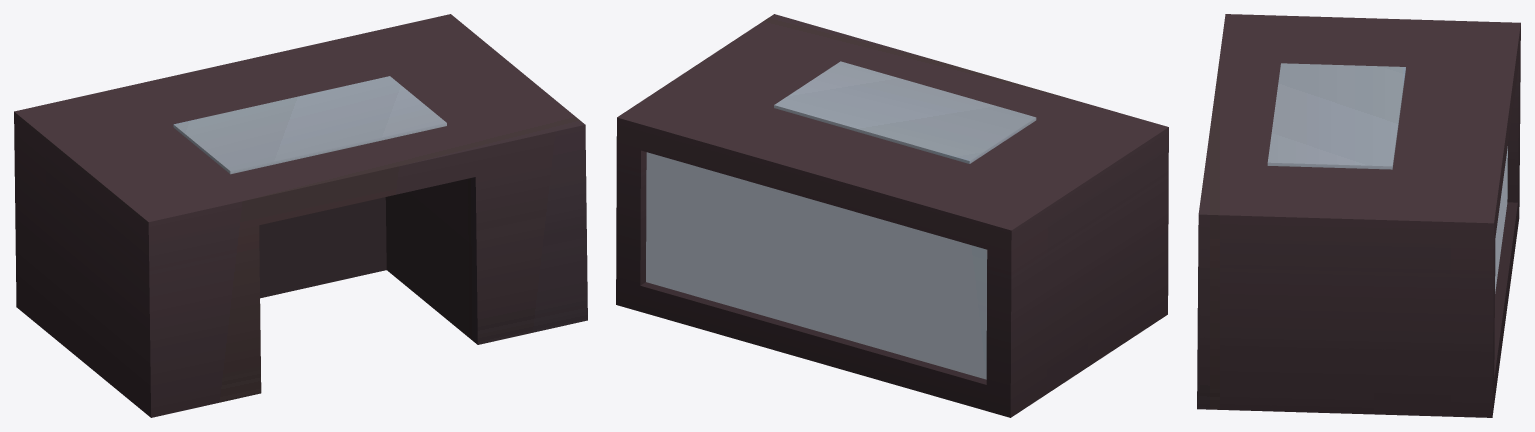
File: Desk.fbx
3 renders of one model, left to right at view 1: azimuth 30°, elevation 25°; view 2: azimuth 150°, elevation 25°; view 3: azimuth 270°, elevation 25°, orthographic. The views are drawn at different scales.
Visible parts, largest first — view 1: node_id4; view 2: node_id4; view 3: node_id4.
Part boxes in pixels (x1,y1,x2,y2): node_id4: [14, 14, 587, 417]; node_id4: [616, 14, 1168, 417]; node_id4: [1197, 14, 1520, 417].
Bounding box in the file's own units: 0.5306 × 0.2346 × 0.3418.
Materials: 1 (1 with a texture image).
